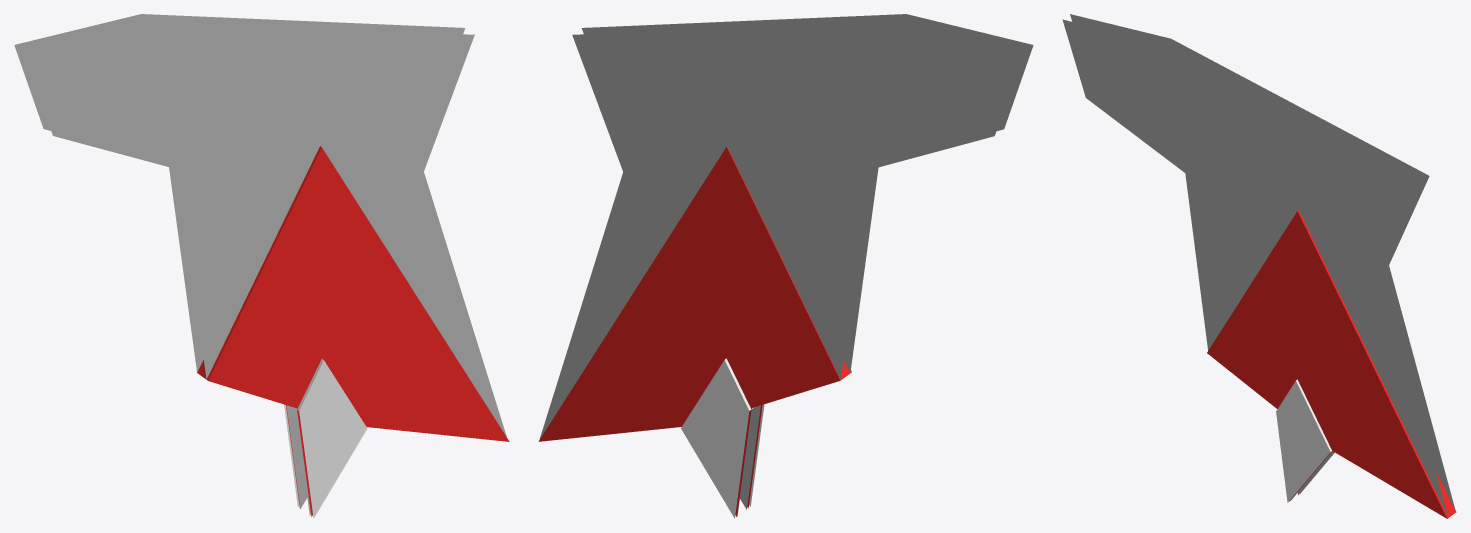
File: MidleTop.fbx
The picture shows the model from 3 angles, left to right: view 1: azimuth 30°, elevation 25°; view 2: azimuth 150°, elevation 25°; view 3: azimuth 330°, elevation 25°; orthographic projection. The views are drawn at different scales.
Parts seen in each view (by area): view 1: Plane.066; view 2: Plane.066; view 3: Plane.066.
Part boxes in pixels (left/top/right/bottom): Plane.066: left=14, top=14, right=509, bottom=518; Plane.066: left=538, top=14, right=1033, bottom=518; Plane.066: left=1062, top=14, right=1456, bottom=518.
Size of the model in its own units: 2.14 by 2.25 by 0.1205.
